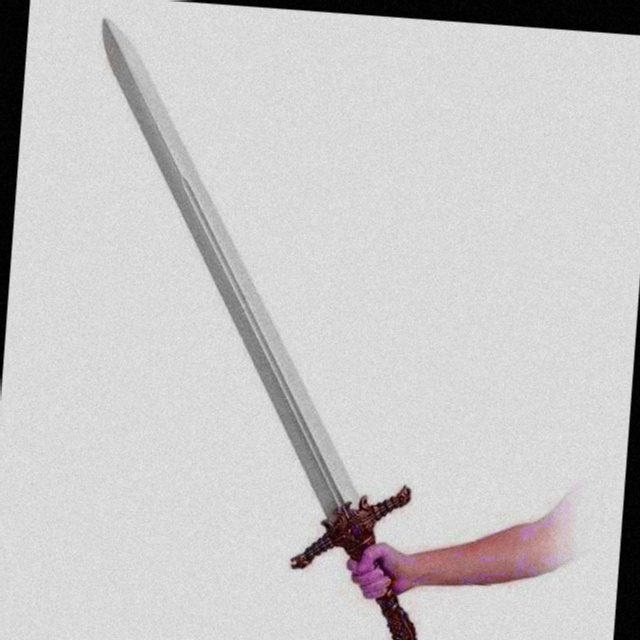Sharp-Object: (27, 2, 487, 640)
